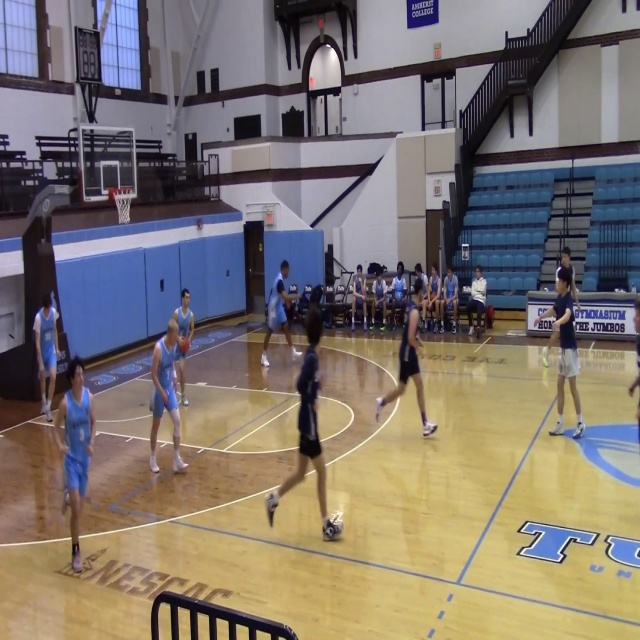Basketball: (177, 336, 190, 353)
